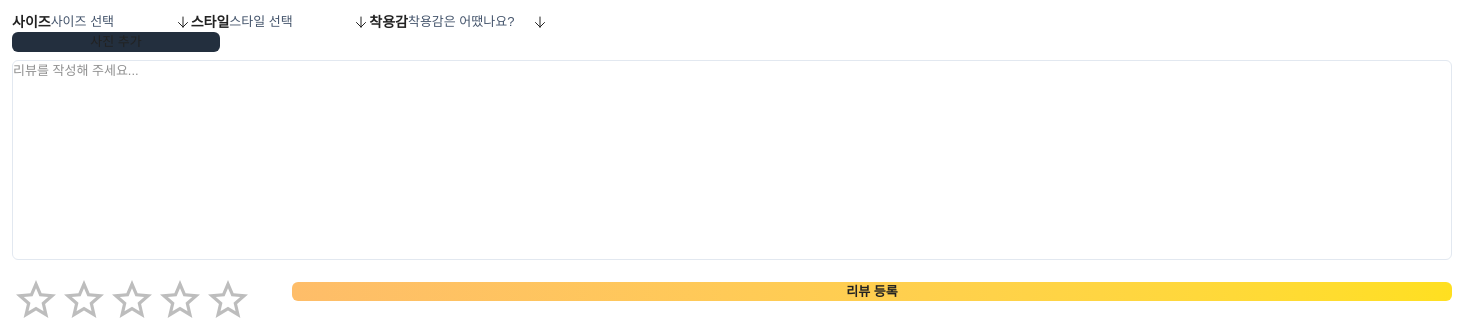
Scenario: 리뷰 작성 폼 › 선택 목록은 고르면 닫힌다 — 예전에는 마우스가 벗어날 때만 닫혀 휴대폰에서 열린 채였다
Click the button with test id "review-select-size". click: [121, 22]
box: [51, 12, 191, 32]
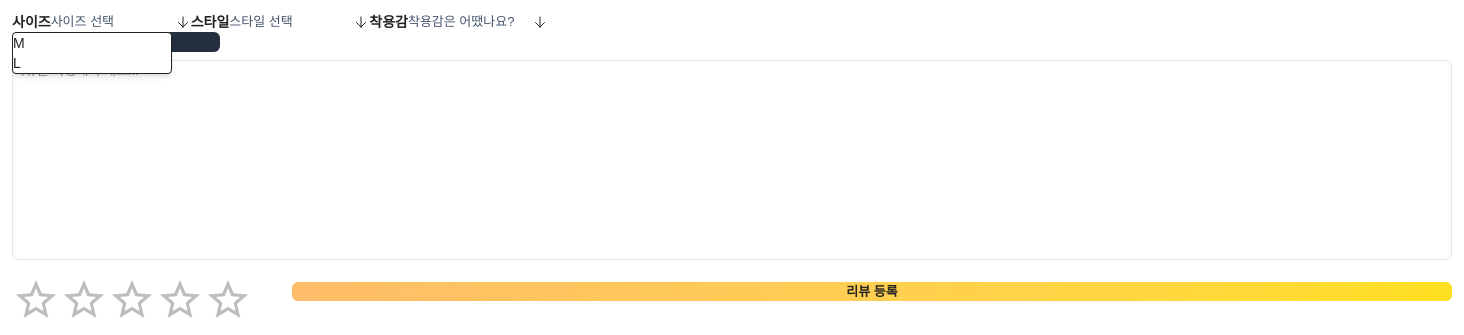
Result: the list is shown at [12, 32, 172, 74]
Click the option "M". click: [19, 43]
box: [13, 35, 25, 51]
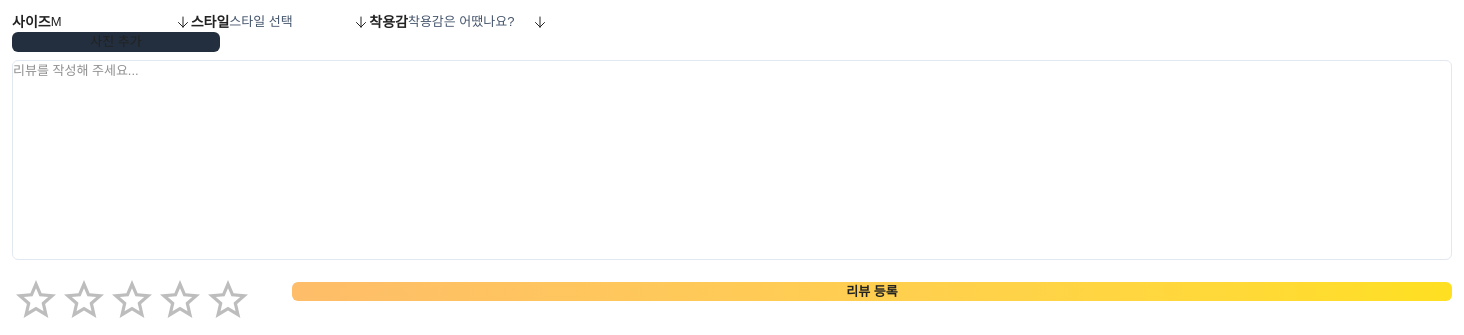
Result: the list is gone
Result: the button with test id "review-select-size" reads "M" at [51, 12, 191, 32]
